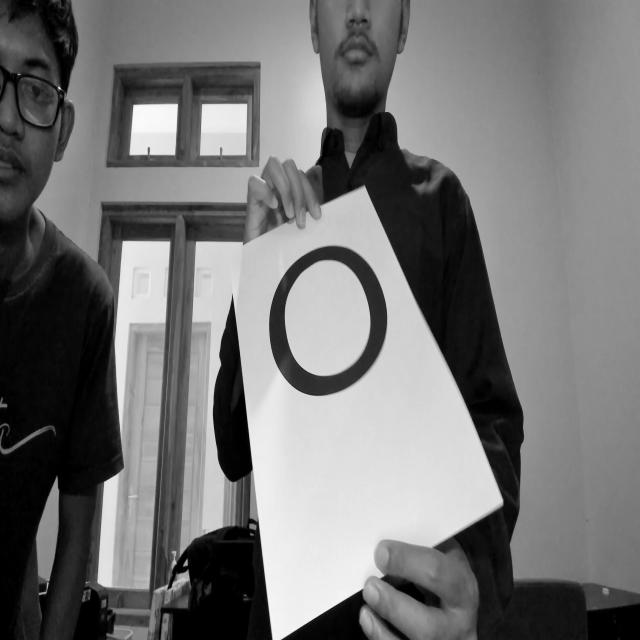o: (254, 208, 394, 430)
